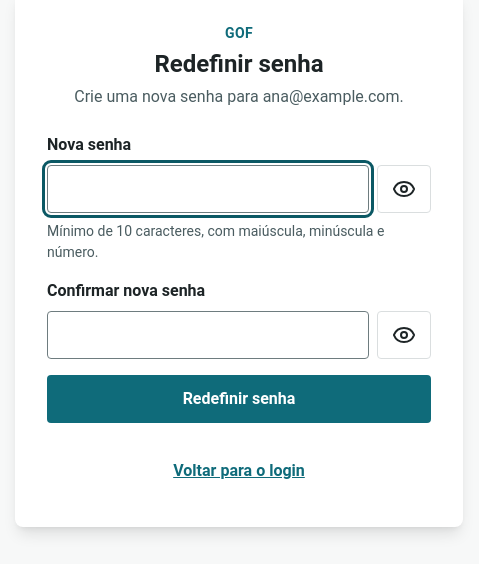
Redefinir senha (/redefinir-senha) › sucesso envia token/e-mail guardados e vai ao login com o aviso (sem login automático)
Step 1. Type "NovaSenha123" into the password field labelled "Nova senha" → (208, 189), box [47,165,369,213]
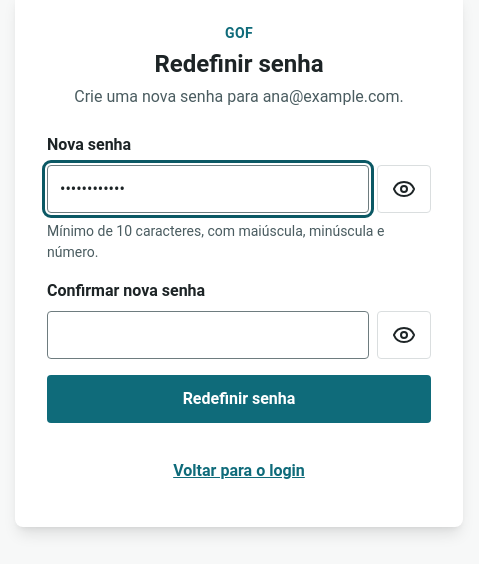
Step 2. Type "NovaSenha123" into the password field labelled "Confirmar nova senha" → (208, 335), box [47,311,369,359]
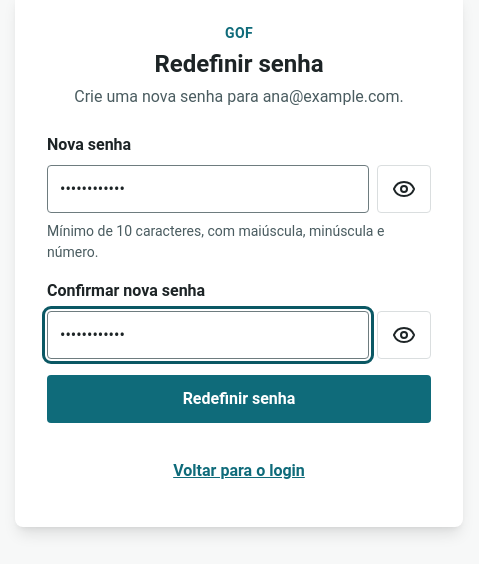
Step 3. Click the button "Redefinir senha" → (239, 399), box [47,375,431,423]
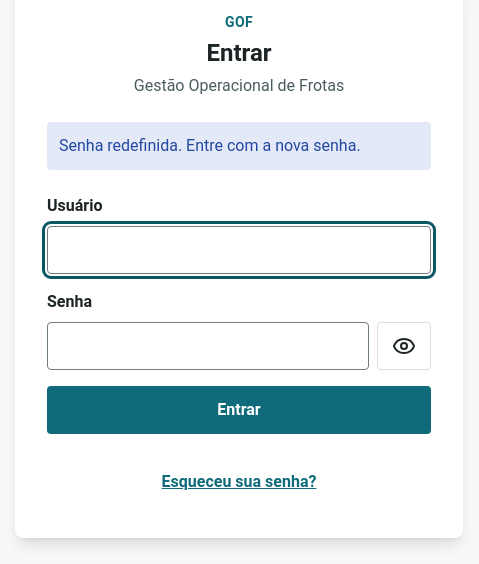
Check: the message reads "Senha redefinida. Entre com a nova senha.", box [59,136,361,155]
